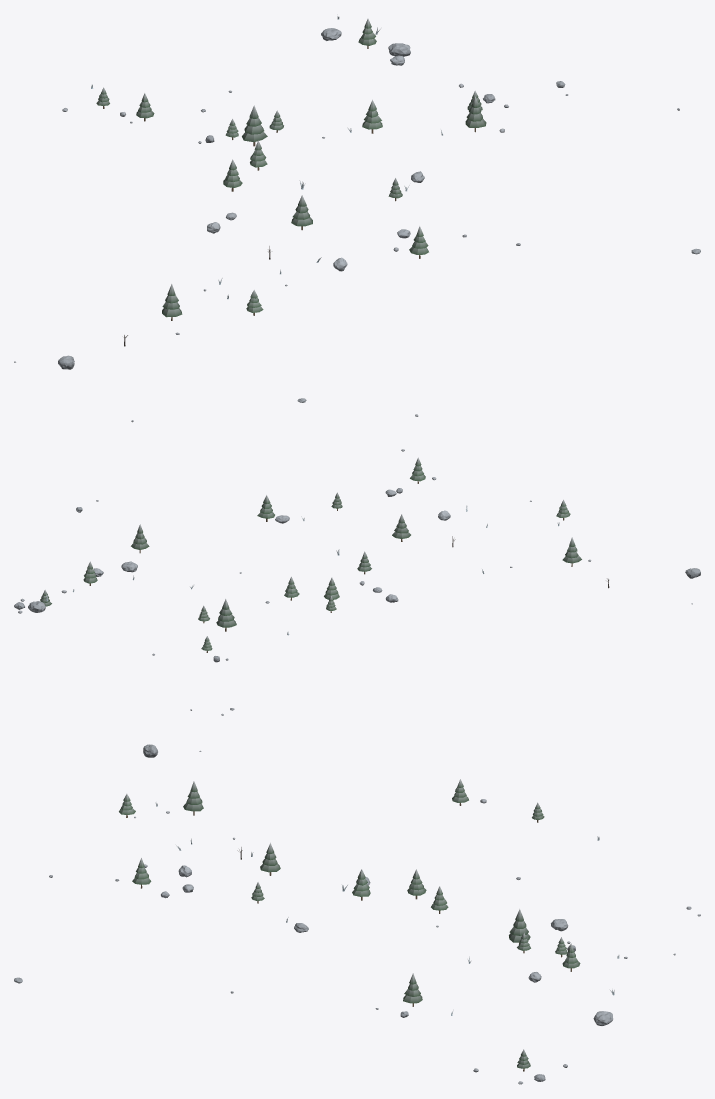
Rendered from frost_land_scatter_c12_09.glb.
The picture shows the model from 3 angles, top to bottom: view 1: azimuth 30°, elevation 25°; view 2: azimuth 150°, elevation 25°; view 3: azimuth 270°, elevation 25°; orthographic projection. The views are drawn at different scales.
Parts seen in each view (by area): view 1: frost_land_scatter_c12_09; view 2: frost_land_scatter_c12_09; view 3: frost_land_scatter_c12_09.
Boxes of the visible parts, bbox=[...] form: frost_land_scatter_c12_09: bbox=[14, 16, 700, 369]; frost_land_scatter_c12_09: bbox=[14, 398, 700, 715]; frost_land_scatter_c12_09: bbox=[14, 744, 700, 1084].
Size of the model in its own units: 247 by 48.25 by 231.
